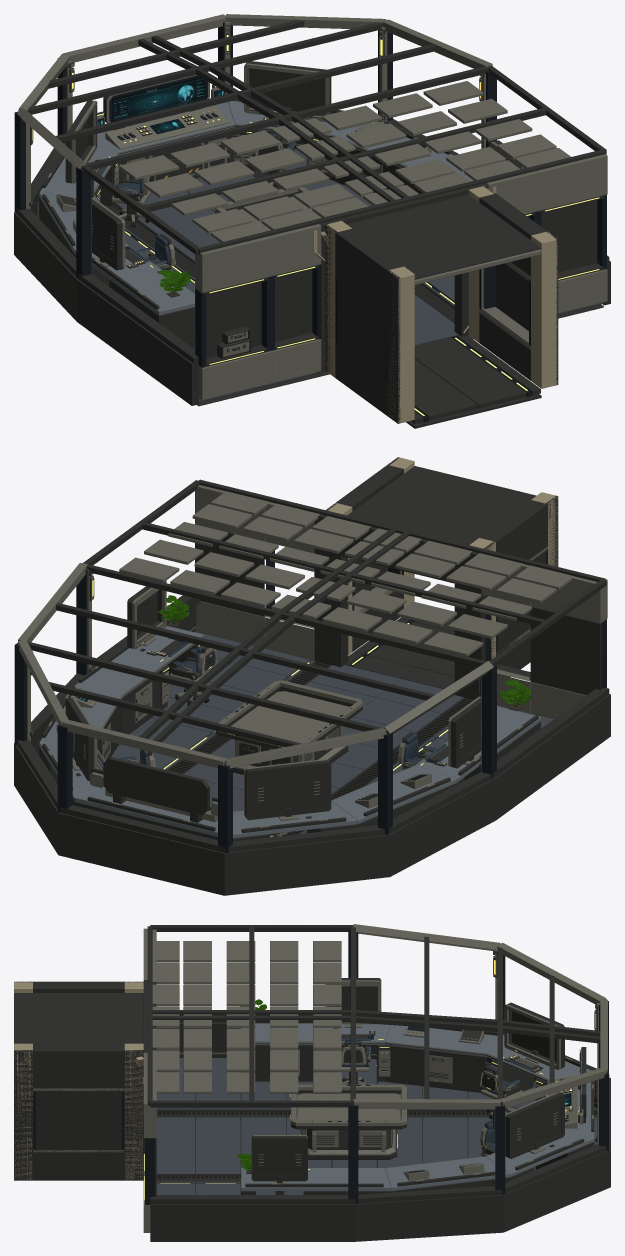
Rendered from cruz-del-sur-clean-bridge.glb.
3 views of the same model, one above another, from view 1: azimuth 30°, elevation 25°; view 2: azimuth 150°, elevation 25°; view 3: azimuth 270°, elevation 25° (orthographic). The views are drawn at different scales.
Parts seen in each view (by area): view 1: REFINED_bridge_static_BRIDGE V15 Graphite.001, REFINED_bridge_static_BRIDGE V15 Metal.001, REFINED_bridge_static_BRIDGE V15 Gasket.001, REFINED_bridge_static_BRIDGE V15 Ivory.001, REFINED_bridge_static_CDS CONSOLE_Brushed graphite desktop, REFINED_bridge_static_CDS DETAIL_Graphite deck - restrained , REFINED_bridge_static_BRIDGE Central navigation.001, REFINED_bridge_communications_BRIDGE V15 Graphite.001, REFINED_bridge_arcade_BRIDGE V15 Graphite.001, REFINED_bridge_computer_BRIDGE V15 Graphite.001, REFINED_bridge_static_BRIDGE V15 Amber.001, REFINED_bridge_static_CDS TAILORED_Blue charcoal performance (+3 smaller); view 2: REFINED_bridge_static_BRIDGE V15 Graphite.001, REFINED_bridge_static_BRIDGE V15 Metal.001, REFINED_bridge_static_CDS DETAIL_Graphite deck - restrained , REFINED_bridge_static_CDS CONSOLE_Brushed graphite desktop, REFINED_bridge_static_BRIDGE V15 Gasket.001, REFINED_bridge_tactical_BRIDGE V15 Metal.001, REFINED_bridge_computer_BRIDGE V15 Graphite.001, REFINED_bridge_static_BRIDGE V15 Ivory.001, REFINED_bridge_arcade_BRIDGE V15 Graphite.001, REFINED_bridge_tactical_BRIDGE V15 Graphite.001, REFINED_bridge_personal_BRIDGE V15 Graphite.001, REFINED_bridge_communications_BRIDGE V15 Graphite.001 (+3 smaller); view 3: REFINED_bridge_static_BRIDGE V15 Graphite.001, REFINED_bridge_static_BRIDGE V15 Metal.001, REFINED_bridge_static_CDS DETAIL_Graphite deck - restrained , REFINED_bridge_static_CDS CONSOLE_Brushed graphite desktop, REFINED_bridge_static_BRIDGE V15 Gasket.001, REFINED_bridge_tactical_BRIDGE V15 Metal.001, REFINED_bridge_static_BRIDGE V15 Ivory.001, REFINED_bridge_personal_BRIDGE V15 Graphite.001, REFINED_bridge_communications_BRIDGE V15 Graphite.001, REFINED_bridge_tactical_BRIDGE V15 Graphite.001, REFINED_bridge_computer_BRIDGE V15 Graphite.001, REFINED_bridge_arcade_BRIDGE V15 Graphite.001 (+3 smaller).
Part boxes in pixels (x1=…): REFINED_bridge_static_BRIDGE V15 Graphite.001: x1=14, y1=20, x2=610, y2=428; REFINED_bridge_static_BRIDGE V15 Metal.001: x1=17, y1=14, x2=607, y2=400; REFINED_bridge_static_BRIDGE V15 Gasket.001: x1=14, y1=21, x2=606, y2=422; REFINED_bridge_static_BRIDGE V15 Ivory.001: x1=98, y1=109, x2=557, y2=423; REFINED_bridge_static_CDS CONSOLE_Brushed graphite desktop: x1=39, y1=101, x2=473, y2=315; REFINED_bridge_static_CDS DETAIL_Graphite deck - restrained : x1=114, y1=148, x2=603, y2=402; REFINED_bridge_static_BRIDGE Central navigation.001: x1=97, y1=77, x2=225, y2=134; REFINED_bridge_communications_BRIDGE V15 Graphite.001: x1=232, y1=61, x2=343, y2=137; REFINED_bridge_arcade_BRIDGE V15 Graphite.001: x1=92, y1=199, x2=159, y2=309; REFINED_bridge_computer_BRIDGE V15 Graphite.001: x1=42, y1=100, x2=120, y2=187; REFINED_bridge_static_BRIDGE V15 Amber.001: x1=32, y1=35, x2=599, y2=415; REFINED_bridge_static_CDS TAILORED_Blue charcoal performance: x1=99, y1=125, x2=295, y2=268; REFINED_bridge_static_BRIDGE V15 Graphite.001: x1=14, y1=457, x2=610, y2=895; REFINED_bridge_static_BRIDGE V15 Metal.001: x1=18, y1=485, x2=607, y2=837; REFINED_bridge_static_CDS DETAIL_Graphite deck - restrained : x1=111, y1=632, x2=553, y2=833; REFINED_bridge_static_CDS CONSOLE_Brushed graphite desktop: x1=39, y1=625, x2=541, y2=838; REFINED_bridge_static_BRIDGE V15 Gasket.001: x1=14, y1=550, x2=606, y2=853; REFINED_bridge_tactical_BRIDGE V15 Metal.001: x1=217, y1=680, x2=362, y2=769; REFINED_bridge_computer_BRIDGE V15 Graphite.001: x1=241, y1=760, x2=346, y2=832; REFINED_bridge_static_BRIDGE V15 Ivory.001: x1=113, y1=457, x2=558, y2=807; REFINED_bridge_arcade_BRIDGE V15 Graphite.001: x1=434, y1=697, x2=538, y2=775; REFINED_bridge_tactical_BRIDGE V15 Graphite.001: x1=215, y1=686, x2=362, y2=774; REFINED_bridge_personal_BRIDGE V15 Graphite.001: x1=78, y1=581, x2=176, y2=720; REFINED_bridge_communications_BRIDGE V15 Graphite.001: x1=42, y1=698, x2=102, y2=790; REFINED_bridge_static_BRIDGE V15 Graphite.001: x1=14, y1=925, x2=610, y2=1241; REFINED_bridge_static_BRIDGE V15 Metal.001: x1=33, y1=924, x2=607, y2=1232; REFINED_bridge_static_CDS DETAIL_Graphite deck - restrained : x1=156, y1=1058, x2=597, y2=1194; REFINED_bridge_static_CDS CONSOLE_Brushed graphite desktop: x1=241, y1=1023, x2=594, y2=1190; REFINED_bridge_static_BRIDGE V15 Gasket.001: x1=33, y1=929, x2=608, y2=1204; REFINED_bridge_tactical_BRIDGE V15 Metal.001: x1=291, y1=1084, x2=406, y2=1154; REFINED_bridge_static_BRIDGE V15 Ivory.001: x1=14, y1=981, x2=571, y2=1179; REFINED_bridge_personal_BRIDGE V15 Graphite.001: x1=245, y1=1136, x2=383, y2=1187; REFINED_bridge_communications_BRIDGE V15 Graphite.001: x1=506, y1=1092, x2=584, y2=1170; REFINED_bridge_tactical_BRIDGE V15 Graphite.001: x1=291, y1=1085, x2=407, y2=1159; REFINED_bridge_computer_BRIDGE V15 Graphite.001: x1=484, y1=1002, x2=579, y2=1072; REFINED_bridge_arcade_BRIDGE V15 Graphite.001: x1=255, y1=978, x2=381, y2=1072.
Size of the model in its own units: 9.92 by 3.62 by 13.81.
Materials: 17 (6 with a texture image).
